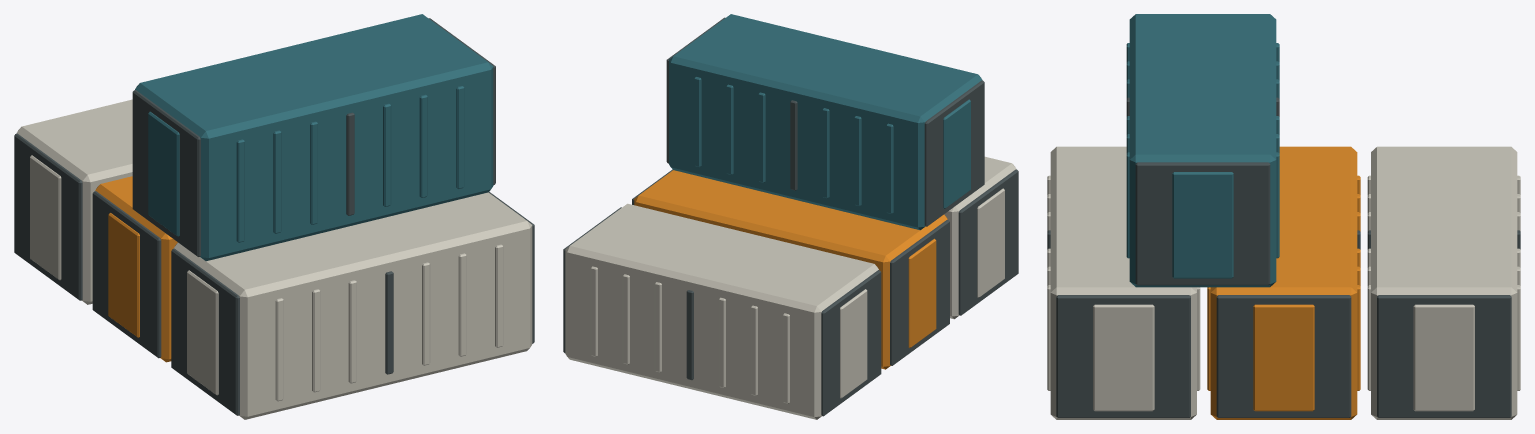
Rendered from fh_container_row_a.glb.
The picture shows the model from 3 angles, left to right: view 1: azimuth 30°, elevation 25°; view 2: azimuth 150°, elevation 25°; view 3: azimuth 270°, elevation 25°; orthographic projection. The views are drawn at different scales.
Visible parts, largest first — view 1: fh_container_row_a; view 2: fh_container_row_a; view 3: fh_container_row_a.
Part boxes in pixels (left/top/right/bottom): fh_container_row_a: left=14, top=14, right=534, bottom=419; fh_container_row_a: left=563, top=14, right=1018, bottom=419; fh_container_row_a: left=1047, top=14, right=1520, bottom=419.
Bounding box in the file's own units: 2.07 × 1.7 × 2.75.
